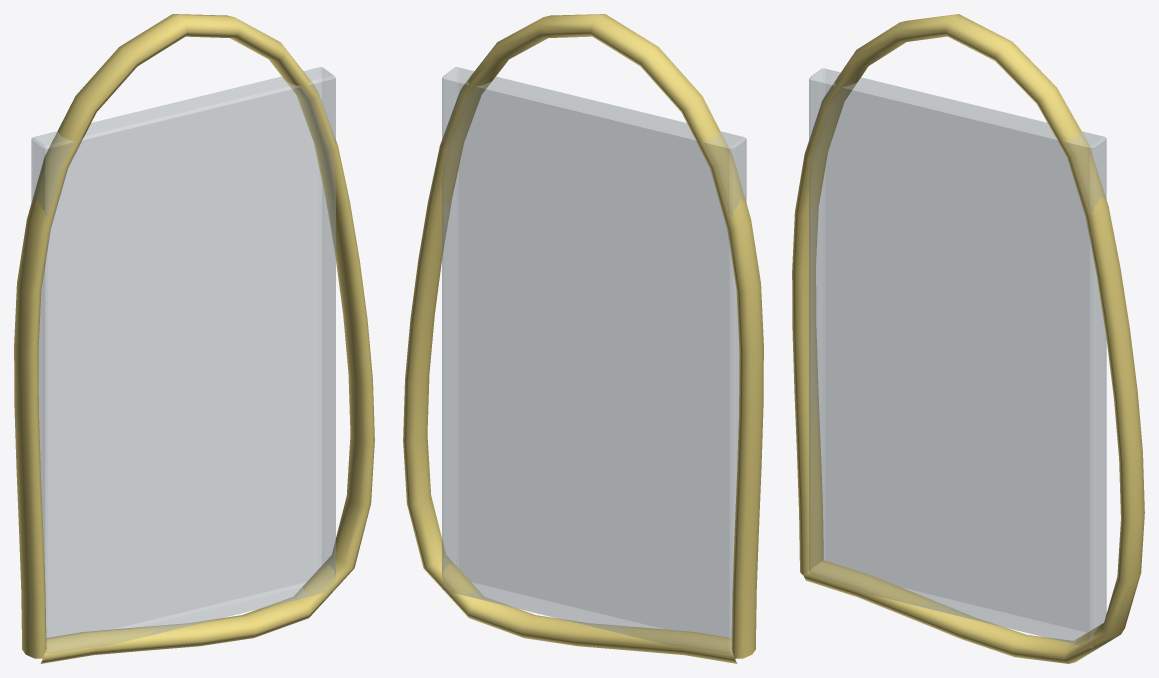
The model's file is arch_mirror_brass.glb.
The picture shows the model from 3 angles, left to right: view 1: azimuth 30°, elevation 25°; view 2: azimuth 150°, elevation 25°; view 3: azimuth 330°, elevation 25°; orthographic projection. The views are drawn at different scales.
Parts seen in each view (by area): view 1: arch_mirror_brass_glassClear, arch_mirror_brass_metalBrass; view 2: arch_mirror_brass_glassClear, arch_mirror_brass_metalBrass; view 3: arch_mirror_brass_glassClear, arch_mirror_brass_metalBrass.
Part boxes in pixels (x1,y1,x2,y2): arch_mirror_brass_glassClear: (31,67,335,653); arch_mirror_brass_metalBrass: (14,14,374,663); arch_mirror_brass_glassClear: (442,67,746,653); arch_mirror_brass_metalBrass: (403,14,763,663); arch_mirror_brass_glassClear: (809,68,1106,647); arch_mirror_brass_metalBrass: (792,14,1144,663).
Size of what is drawn, in the model's own units: 0.65 by 1.12 by 0.055.
